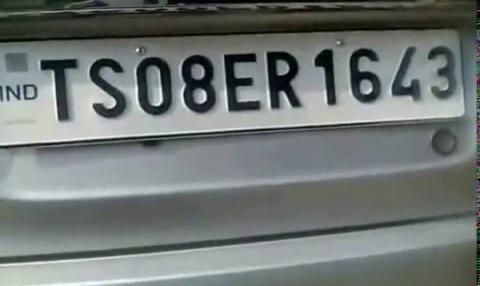TS08ER1643: (0, 26, 465, 146)
